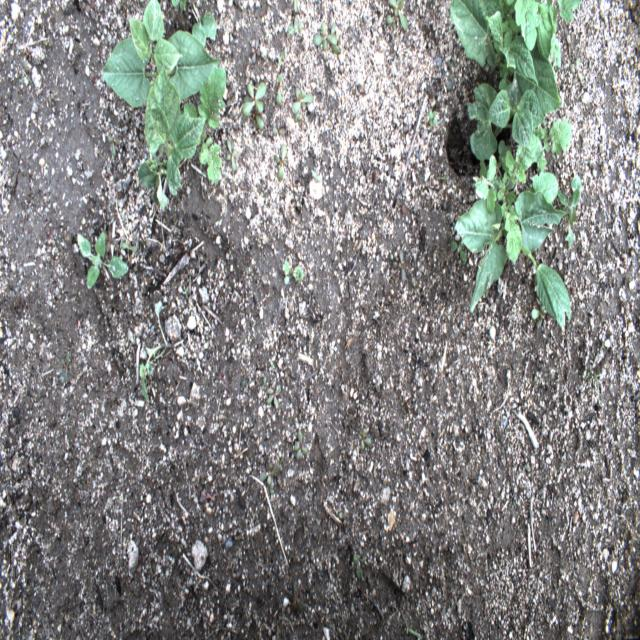crop: (446, 0, 581, 331), (98, 0, 228, 206)
weed: (473, 144, 550, 266), (76, 228, 132, 290), (242, 79, 266, 131), (312, 20, 341, 54), (291, 88, 313, 122), (260, 459, 280, 496), (386, 0, 409, 32), (139, 361, 154, 402), (224, 134, 238, 174), (274, 142, 288, 182), (293, 427, 309, 461), (283, 258, 304, 282), (450, 239, 468, 266), (289, 4, 302, 36), (357, 426, 372, 452), (352, 553, 364, 581), (274, 66, 282, 108), (108, 134, 120, 158), (273, 116, 284, 136), (568, 59, 580, 74), (430, 108, 436, 128)
